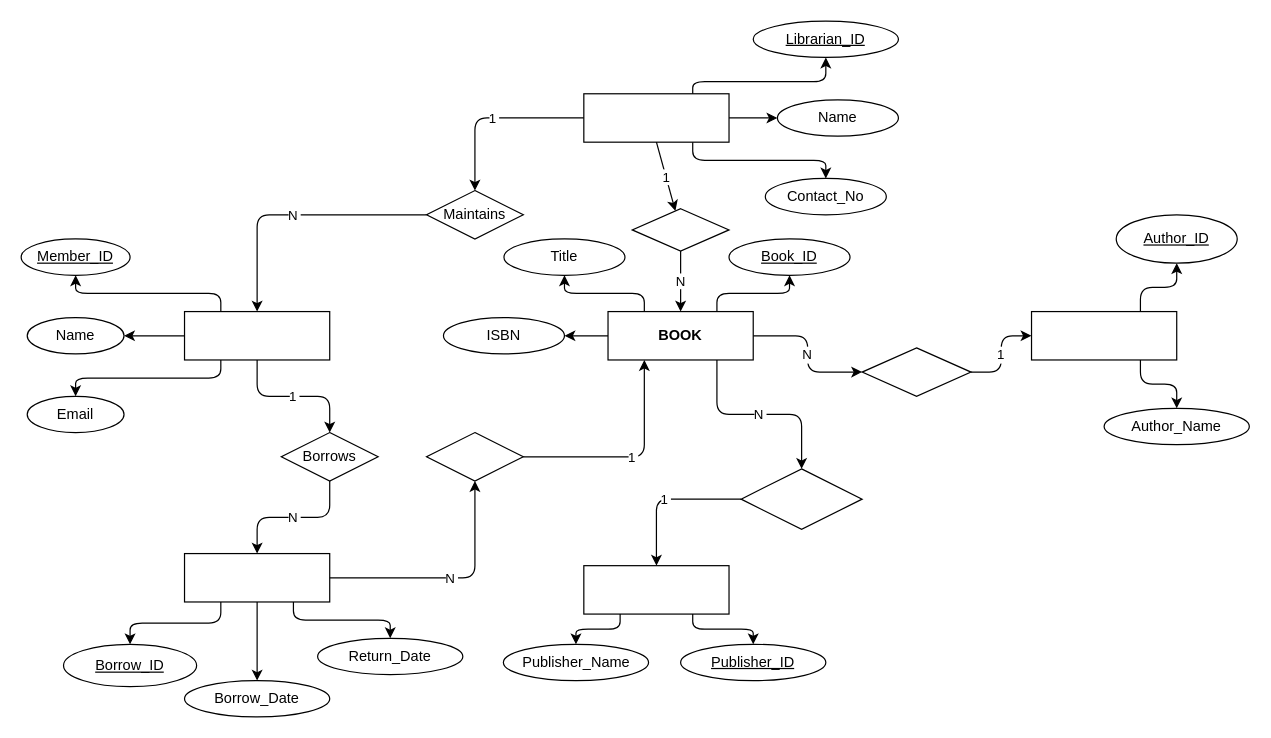
Some shapes in this 1271 by 738 pixel diagram are drawn without their labels. Each missing label, with the centre of its shape:
"AUTHOR" goes at point (1103, 335).
"BORROW" goes at point (256, 577).
"Includes" goes at point (474, 456).
"LIBRARIAN" goes at point (656, 117).
"Manages" goes at point (680, 229).
"MEMBER" goes at point (256, 335).
"Published_by" goes at point (801, 498).
"PUBLISHER" goes at point (656, 589).
"Written_by" goes at point (916, 371).
